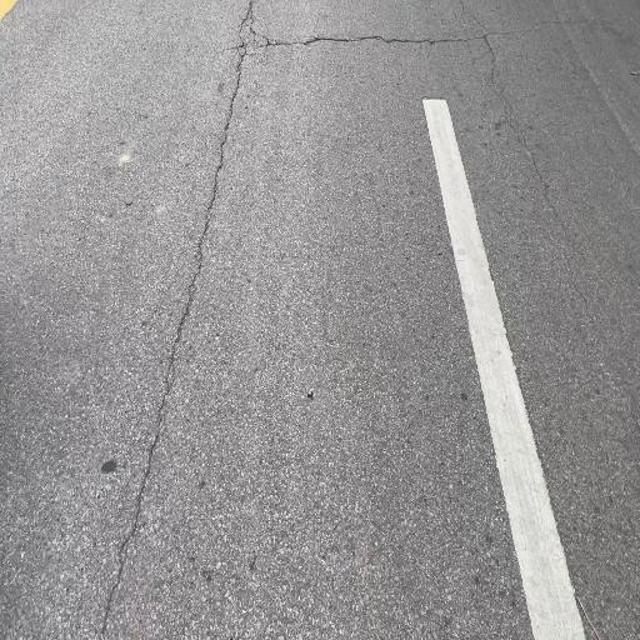Melintang: (195, 22, 517, 61)
Memanjang: (86, 0, 269, 640)
